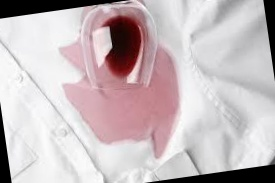wine: (61, 42, 177, 162), (83, 79, 191, 145), (59, 37, 85, 87)
